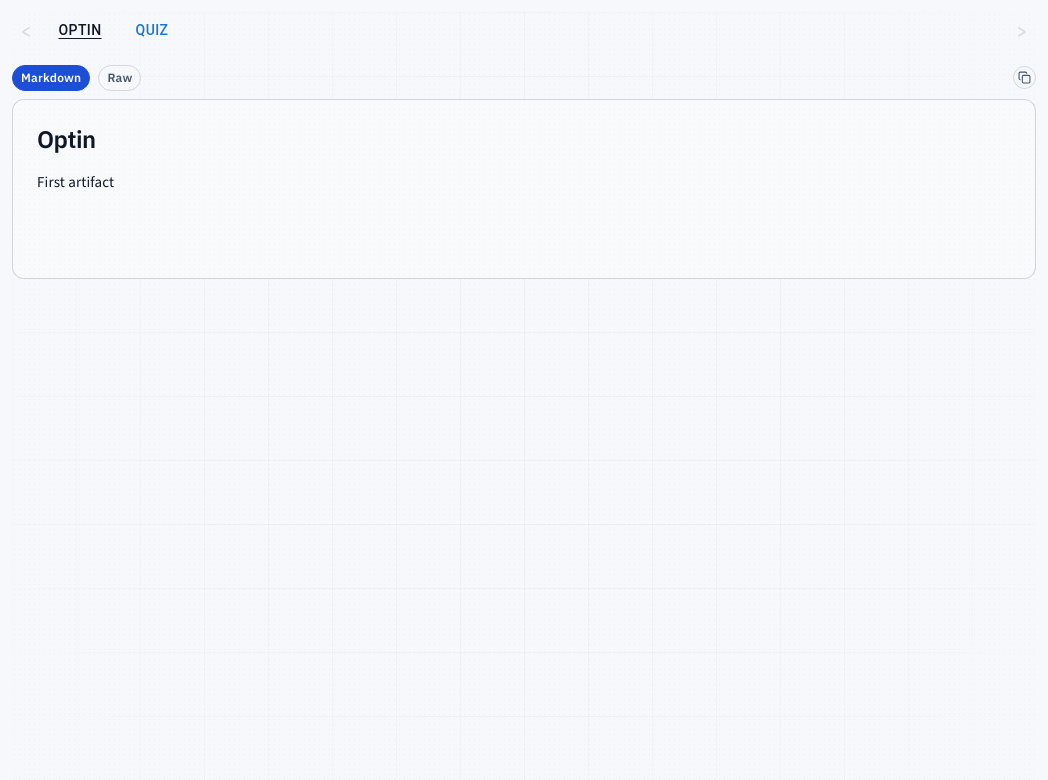
Scenario: SessionArtifactTabs › switches selected artifact when a step tab is clicked
The width and height of the screenshot is (1048, 780).
Expected: the text "First artifact" is shown, [37,172,114,192]
Click the tab "quiz" at (152, 30), box [120,12,184,48]
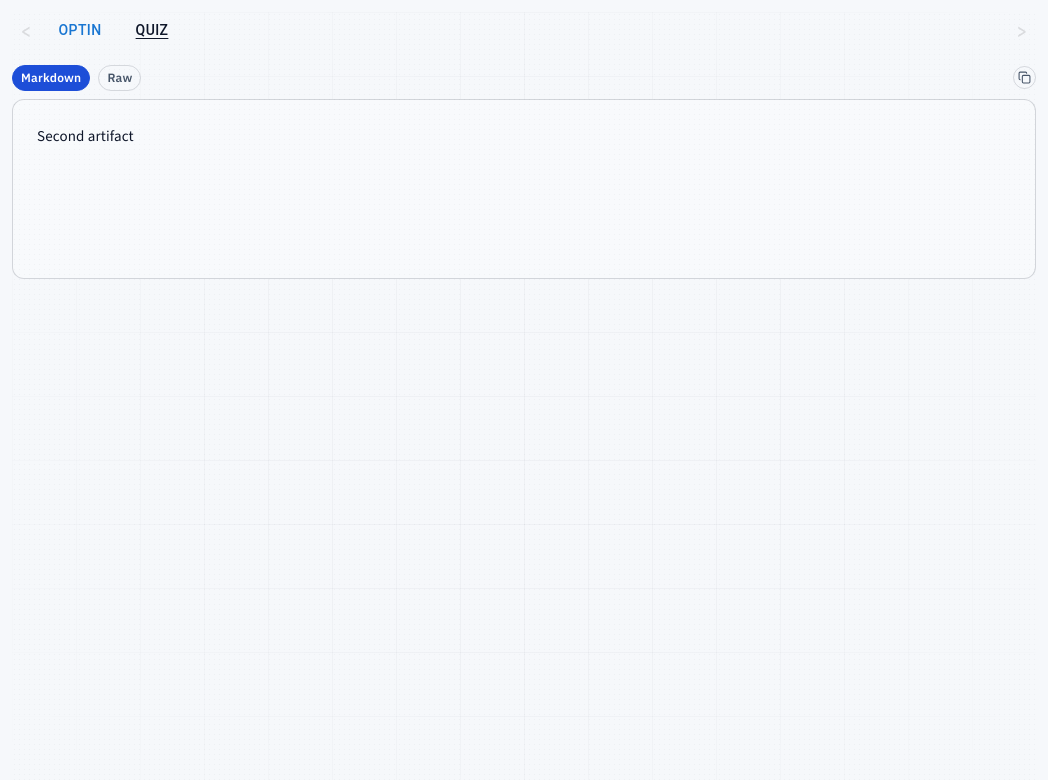
Expected: the text "Second artifact" is shown, [37,126,134,146]
